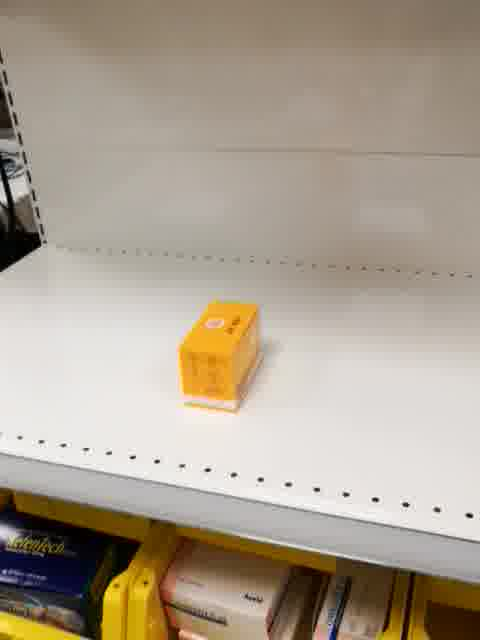jasminetea: (178, 298, 263, 416)
